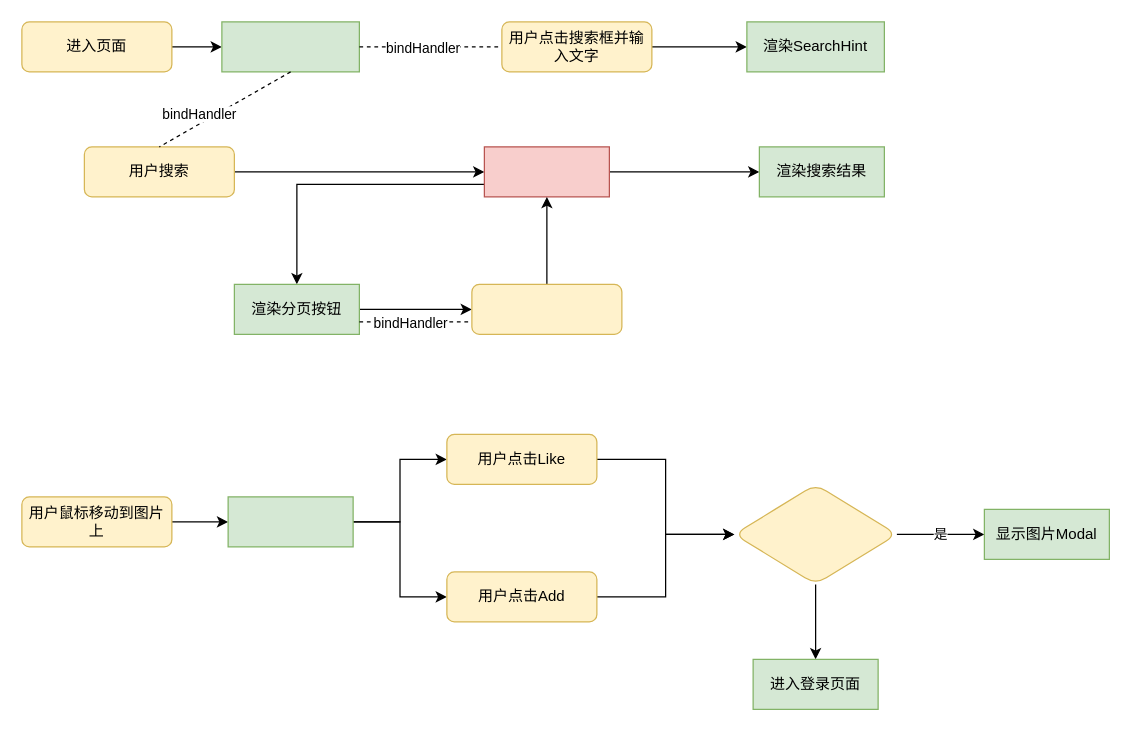
The diagram is 1131 pixels wide and 731 high, and some of its shapes have lost their labels. The centre of each missing label's shape, as x and y in pixels:
"是否登录" belongs at [815,533].
"显示Like和Add" belongs at [290,521].
"渲染MainPage" belongs at [290,46].
"用户点击分页" belongs at [546,308].
"请求搜索结果" belongs at [546,171].
